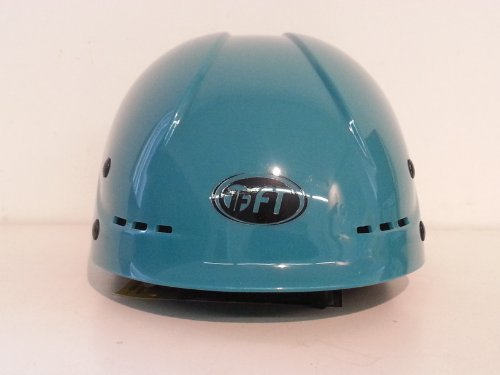elmetto: (87, 17, 439, 299), (86, 19, 436, 296)
